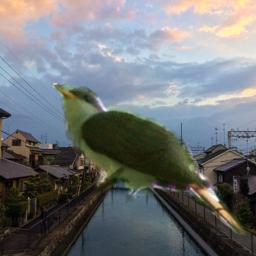Cuckoo: (49, 83, 250, 236)
